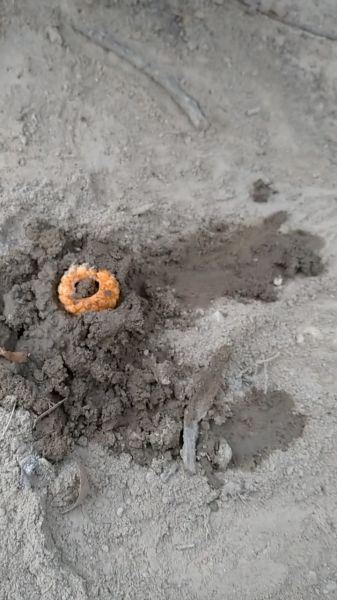eggs: (51, 261, 121, 316)
